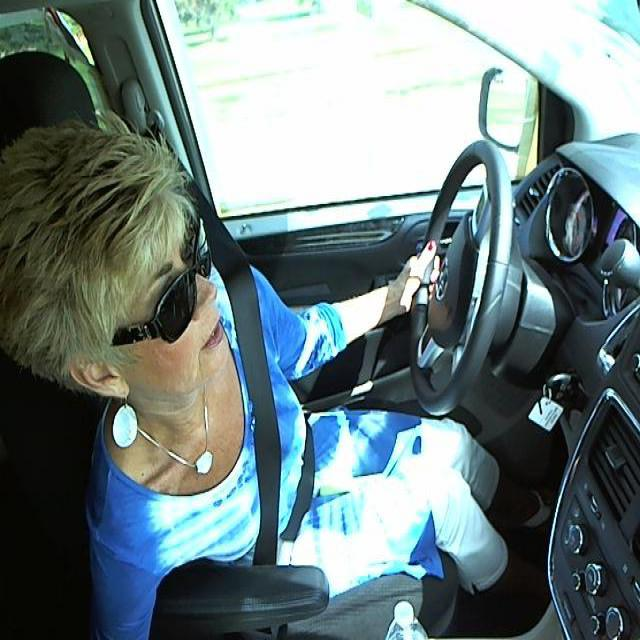seatbelt: (226, 271, 320, 557)
